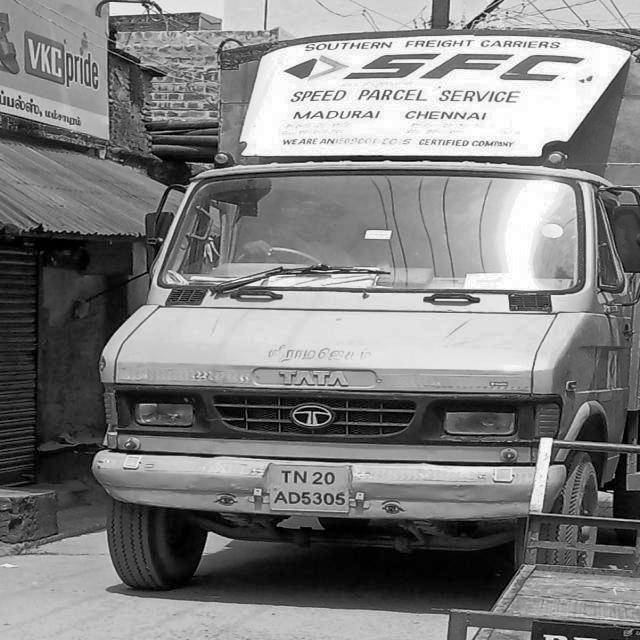HCV: (101, 45, 640, 570)
